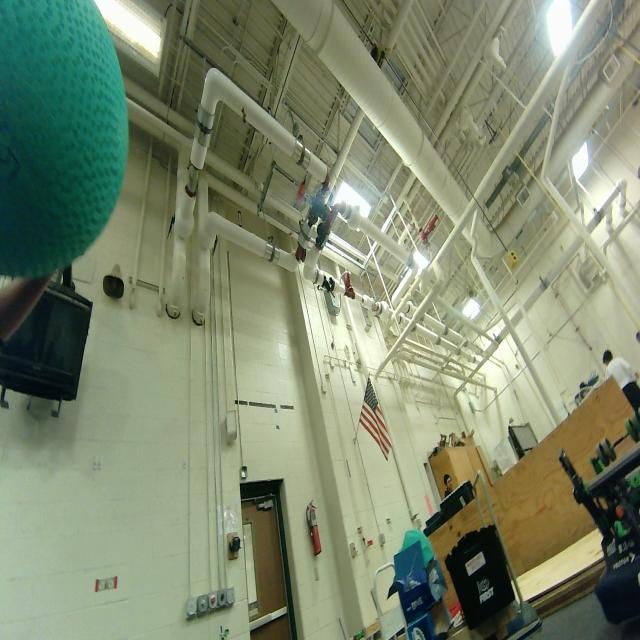algae: (0, 0, 128, 278)
